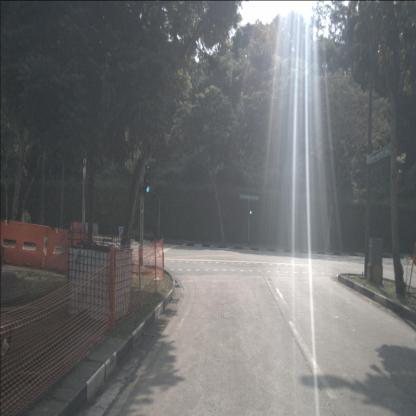movable_object-barrier: (0, 219, 49, 268), (46, 229, 89, 273), (70, 221, 84, 247), (85, 222, 99, 236)
